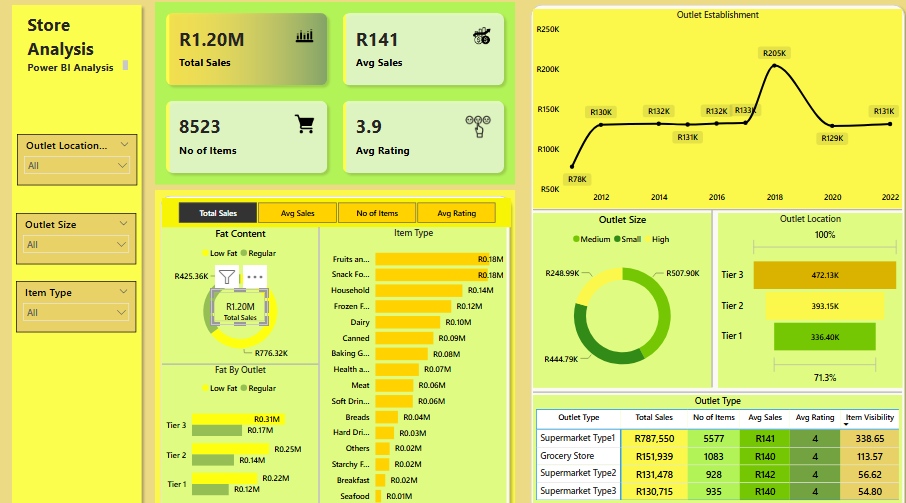

The page's visual inventory and layout, read from the dashboard file:
{"tool":"powerbi","page":{"name":"Page 1","canvas":[1400,800],"ordinal":0},"visuals":[{"type":"shape","box":[9.3,0,217.8,800],"z":0},{"type":"textbox","box":[37.1,15.4,173,89.6],"z":2000},{"type":"textbox","box":[37.1,89.6,165.3,30.9],"z":3000},{"type":"cardVisual","fields":{"Data":["BlinkIT Grocery Data.Total Sales","BlinkIT Grocery Data.Avg Sales","BlinkIT Grocery Data.No of Items","BlinkIT Grocery Data.Avg Rating"]},"box":[237.8,4.6,554.4,281.1],"z":4000},{"type":"shape","box":[237.8,293.4,554.4,506.6],"z":5000},{"type":"donutChart","title":"Fat Content","fields":{"Y":["BlinkIT Grocery Data.Total Sales"],"Category":["BlinkIT Grocery Data.Item Fat Content"]},"box":[248.6,350.6,240.9,211.6],"z":6000},{"type":"slicer","fields":{"Values":["Metrics.Metrics"]},"box":[248.6,305.8,537.5,44.8],"z":7000},{"type":"cardVisual","fields":{"Data":["BlinkIT Grocery Data.Total Sales"]},"box":[324.3,457.1,88,55.6],"z":8000},{"type":"clusteredBarChart","title":"Fat By Outlet","fields":{"Y":["BlinkIT Grocery Data.Total Sales"],"Category":["BlinkIT Grocery Data.Outlet Location Type"],"Series":["BlinkIT Grocery Data.Item Fat Content"]},"box":[248.6,562.2,240.9,227],"z":9000},{"type":"shape","box":[248.6,540.5,240.9,43.2],"z":10000},{"type":"shape","box":[469.5,350.6,43.2,438.6],"z":11000},{"type":"barChart","title":"Item Type","fields":{"Y":["BlinkIT Grocery Data.Total Sales"],"Category":["BlinkIT Grocery Data.Item Type"]},"box":[492.7,350.6,287.3,438.6],"z":12000},{"type":"shape","box":[807.7,0,593.1,800],"z":13000},{"type":"lineChart","title":"Outlet Establishment ","fields":{"Y":["BlinkIT Grocery Data.Total Sales"],"Category":["BlinkIT Grocery Data.Outlet Establishment Year"]},"box":[820.1,15.4,568.3,307.3],"z":14000},{"type":"donutChart","title":"Outlet Size","fields":{"Y":["BlinkIT Grocery Data.Total Sales"],"Category":["BlinkIT Grocery Data.Outlet Size"]},"box":[820.1,329,274.9,268.7],"z":15000},{"type":"shape","box":[820.1,305.8,568.3,35.5],"z":16000},{"type":"shape","box":[1073.4,324.3,43.2,273.4],"z":18000},{"type":"funnel","title":"Outlet Location ","fields":{"Y":["Sum(BlinkIT Grocery Data.Sales)"],"Category":["BlinkIT Grocery Data.Outlet Location Type"]},"box":[1104.2,329,284.2,268.7],"z":18001},{"type":"shape","box":[820.1,583.8,568.3,43.2],"z":18002},{"type":"pivotTable","title":"Outlet Type","fields":{"Rows":["BlinkIT Grocery Data.Outlet Type"],"Values":["BlinkIT Grocery Data.Total Sales","BlinkIT Grocery Data.No of Items","BlinkIT Grocery Data.Avg Sales","BlinkIT Grocery Data.Avg Rating","Sum(BlinkIT Grocery Data.Item Visibility)"]},"box":[820.1,608.5,568.3,180.7],"z":18003},{"type":"slicer","fields":{"Values":["BlinkIT Grocery Data.Outlet Location Type"]},"box":[26.3,206.9,185.3,78.8],"z":18004},{"type":"slicer","fields":{"Values":["BlinkIT Grocery Data.Outlet Size"]},"box":[24.7,329,185.3,78.8],"z":18005},{"type":"slicer","fields":{"Values":["BlinkIT Grocery Data.Item Type"]},"box":[24.7,434,185.3,78.8],"z":18006}]}

Visuals, with their boxes in screenshot pixels (x1, y1, x2, y2), scaled from the page's 1400x800 canvas onto the 906x503 screenshot:
shape: rect(6, 0, 147, 502)
textbox: rect(24, 10, 136, 66)
textbox: rect(24, 56, 131, 76)
cardVisual - BlinkIT Grocery Data.Total Sales x BlinkIT Grocery Data.Avg Sales: rect(154, 3, 513, 180)
shape: rect(154, 184, 513, 502)
"Fat Content" donutChart: rect(161, 220, 317, 353)
slicer - Metrics.Metrics: rect(161, 192, 509, 220)
cardVisual - BlinkIT Grocery Data.Total Sales: rect(210, 287, 267, 322)
"Fat By Outlet" clusteredBarChart: rect(161, 353, 317, 496)
shape: rect(161, 340, 317, 367)
shape: rect(304, 220, 332, 496)
"Item Type" barChart: rect(319, 220, 505, 496)
shape: rect(523, 0, 905, 502)
"Outlet Establishment " lineChart: rect(531, 10, 898, 203)
"Outlet Size" donutChart: rect(531, 207, 709, 376)
shape: rect(531, 192, 898, 215)
shape: rect(695, 204, 723, 376)
"Outlet Location " funnel: rect(715, 207, 898, 376)
shape: rect(531, 367, 898, 394)
"Outlet Type" pivotTable: rect(531, 383, 898, 496)
slicer - BlinkIT Grocery Data.Outlet Location Type: rect(17, 130, 137, 180)
slicer - BlinkIT Grocery Data.Outlet Size: rect(16, 207, 136, 256)
slicer - BlinkIT Grocery Data.Item Type: rect(16, 273, 136, 322)
